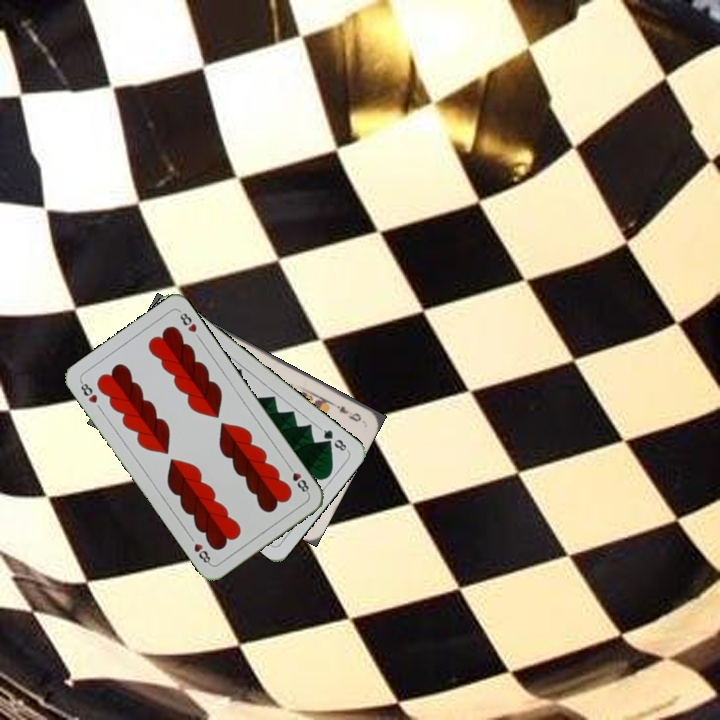E9: (329, 399, 364, 425)
G8: (316, 424, 351, 455)
H8: (284, 461, 312, 497), (76, 377, 100, 406)
